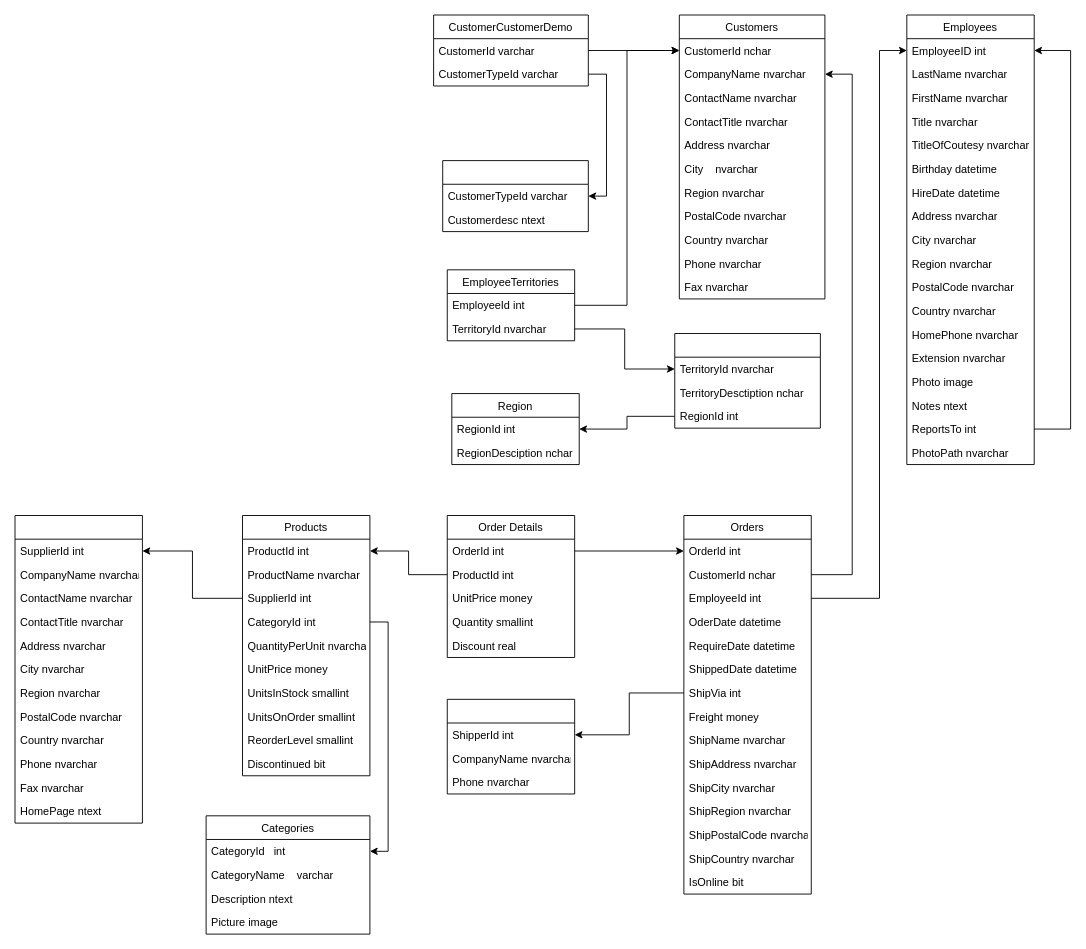
This 1086x949 diagram has some shape labels left out. The shapes that lost their labels are listed below. From the top down, each one's box as (x1, y1, x2, y2) in pixels, then its label:
(442, 160, 588, 232): CustomerDemographics
(674, 333, 820, 428): Territories
(14, 515, 142, 823): Suppliers
(446, 698, 575, 794): Shippers
